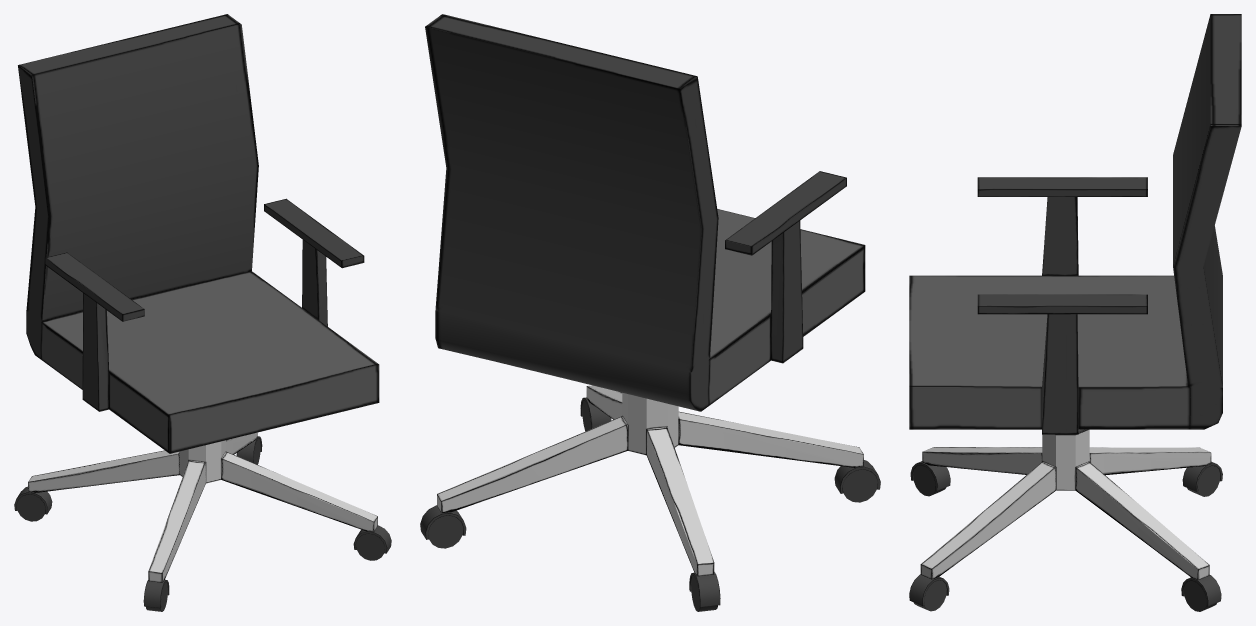
File: officechair.FBX
The picture shows the model from 3 angles, left to right: view 1: azimuth 30°, elevation 25°; view 2: azimuth 150°, elevation 25°; view 3: azimuth 270°, elevation 25°; orthographic projection. The views are drawn at different scales.
Visible parts, largest first — view 1: Box002; view 2: Box002; view 3: Box002.
Boxes of the visible parts, x1,y1,x2,y2 form: Box002: [14, 14, 391, 611]; Box002: [420, 14, 880, 611]; Box002: [909, 14, 1241, 611].
Size of the model in its own units: 54.36 by 91.95 by 57.63.
